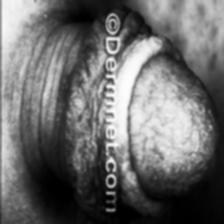Toxin: (132, 61, 216, 199)
